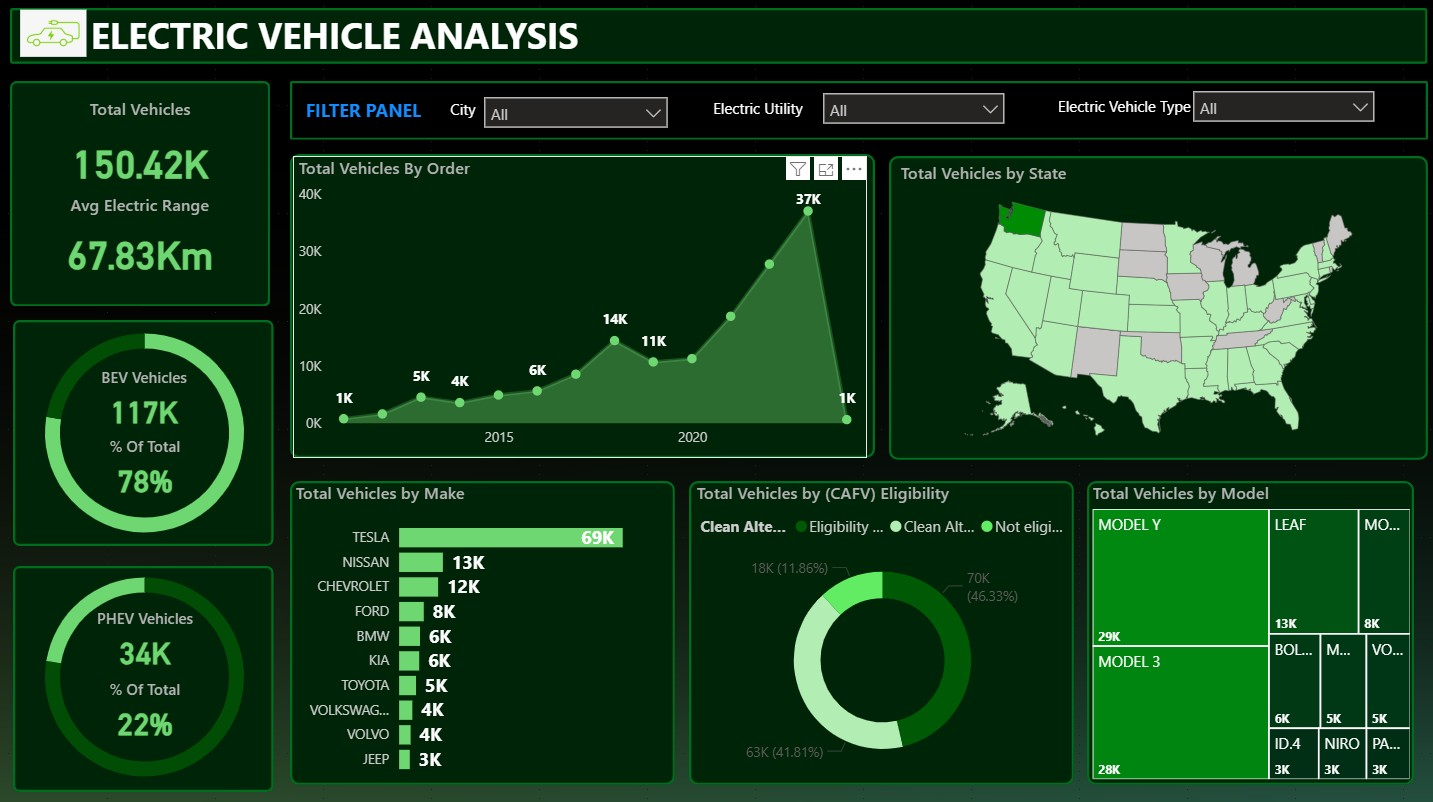

Layout of this report page (visuals, bound fields, positions):
{"tool":"powerbi","page":{"name":"Page 1","canvas":[1280,720],"ordinal":0},"visuals":[{"type":"shape","box":[9.8,9.8,1260,49.7],"z":0},{"type":"textbox","box":[76.4,6.2,467.6,56.9],"z":1000},{"type":"shape","box":[9.8,74.5,231.4,200.4],"z":2000},{"type":"card","title":"Total Vehicles","fields":{"Values":["Electric_Vehicle_Population_Data.Total Vehicles"]},"box":[9.9,89.1,231.6,95],"z":3000},{"type":"card","title":"Avg Electric Range","fields":{"Values":["Electric_Vehicle_Population_Data.Avg Range"]},"box":[12.9,174.2,225.6,86.1],"z":4000},{"type":"shape","box":[12.9,287,231.6,200.9],"z":5000},{"type":"shape","box":[12.9,505.7,231.6,200.9],"z":6000},{"type":"donutChart","fields":{"Category":["Electric_Vehicle_Population_Data.Electric Vehicle Type"],"Y":["Electric_Vehicle_Population_Data.Total Vehicles"]},"box":[0,488.9,258.7,231.1],"z":7000},{"type":"card","title":"BEV Vehicles","fields":{"Values":["Electric_Vehicle_Population_Data.BEV vehicles"]},"box":[49.8,328.9,158.2,61.3],"z":8000},{"type":"card","title":"% Of Total","fields":{"Values":["Electric_Vehicle_Population_Data.1% of BEV"]},"box":[50.7,390.2,158.2,61.3],"z":9000},{"type":"donutChart","fields":{"Category":["Electric_Vehicle_Population_Data.Electric Vehicle Type"],"Y":["Electric_Vehicle_Population_Data.Total Vehicles"]},"box":[0,272,258.7,231.1],"z":10000},{"type":"card","title":"PHEV Vehicles","fields":{"Values":["Electric_Vehicle_Population_Data.PHEV vehicles"]},"box":[50.7,543.1,158.2,61.3],"z":11000},{"type":"card","title":"% Of Total","fields":{"Values":["Electric_Vehicle_Population_Data.1% of PHEV"]},"box":[50.7,606.2,158.2,61.3],"z":12000},{"type":"shape","box":[258.7,74.7,1011.6,52.4],"z":13000},{"type":"shape","box":[258.7,139.6,520,270.2],"z":14000},{"type":"areaChart","title":"Total Vehicles By Order ","fields":{"Category":["Electric_Vehicle_Population_Data.Model Year"],"Y":["Electric_Vehicle_Population_Data.Total Vehicles"]},"box":[261.3,141.3,510.2,268.4],"z":15000},{"type":"shape","box":[791.1,141.3,479.1,270.2],"z":16000},{"type":"shapeMap","fields":{"Category":["Electric_Vehicle_Population_Data.State"],"Value":["Electric_Vehicle_Population_Data.Total Vehicles"]},"box":[796.4,145.8,468.4,260.4],"z":17000},{"type":"shape","box":[258.7,430.2,342.2,270.2],"z":18000},{"type":"barChart","fields":{"Category":["Electric_Vehicle_Population_Data.Make"],"Y":["Electric_Vehicle_Population_Data.Total Vehicles"]},"box":[258.7,430.2,336.9,270.2],"z":19000},{"type":"shape","box":[613.3,430.2,342.2,270.2],"z":20000},{"type":"donutChart","title":"Total Vehicles by (CAFV) Eligibility","fields":{"Category":["Electric_Vehicle_Population_Data.Clean Alternative Fuel Vehicle (CAFV) Eligibility"],"Y":["Electric_Vehicle_Population_Data.Total Vehicles"]},"box":[615.1,430.2,340.4,270.2],"z":21000},{"type":"shape","box":[967.1,430.2,290.7,270.2],"z":22000},{"type":"treemap","fields":{"Group":["Electric_Vehicle_Population_Data.Model"],"Values":["Electric_Vehicle_Population_Data.Total Vehicles"]},"box":[967.1,430.2,292.4,270.2],"z":23000},{"type":"textbox","box":[267.6,84.4,115.6,32.9],"z":24000},{"type":"textbox","box":[385.8,86.2,53.3,32.9],"z":25000},{"type":"slicer","fields":{"Values":["Electric_Vehicle_Population_Data.City"]},"box":[421.3,79.1,183.1,43.6],"z":26000},{"type":"textbox","box":[621.3,85.3,106.7,32.9],"z":27000},{"type":"slicer","fields":{"Values":["Electric_Vehicle_Population_Data.Electric Utility"]},"box":[722.7,75.6,181.3,45.3],"z":28000},{"type":"slicer","fields":{"Values":["Electric_Vehicle_Population_Data.Electric Vehicle Type"]},"box":[1051.6,73.8,181.3,45.3],"z":29000},{"type":"textbox","box":[928,83.6,144.9,32.9],"z":30000},{"type":"image","box":[9.8,6.2,76.4,52.4],"z":31000}]}

Visuals, with their boxes in screenshot pixels (x1, y1, x2, y2), scaled from the page's 1280x720 canvas onto the 1433x802 screenshot:
shape: bbox=[11, 11, 1422, 66]
textbox: bbox=[86, 7, 609, 70]
shape: bbox=[11, 83, 270, 306]
"Total Vehicles" card: bbox=[11, 99, 270, 205]
"Avg Electric Range" card: bbox=[14, 194, 267, 290]
shape: bbox=[14, 320, 274, 543]
shape: bbox=[14, 563, 274, 787]
donutChart - Electric_Vehicle_Population_Data.Electric Vehicle Type x Electric_Vehicle_Population_Data.Total Vehicles: bbox=[0, 545, 290, 801]
"BEV Vehicles" card: bbox=[56, 366, 233, 435]
"% Of Total" card: bbox=[57, 435, 234, 503]
donutChart - Electric_Vehicle_Population_Data.Electric Vehicle Type x Electric_Vehicle_Population_Data.Total Vehicles: bbox=[0, 303, 290, 560]
"PHEV Vehicles" card: bbox=[57, 605, 234, 673]
"% Of Total" card: bbox=[57, 675, 234, 744]
shape: bbox=[290, 83, 1422, 142]
shape: bbox=[290, 155, 872, 456]
"Total Vehicles By Order " areaChart: bbox=[293, 157, 864, 456]
shape: bbox=[886, 157, 1422, 458]
shapeMap - Electric_Vehicle_Population_Data.State x Electric_Vehicle_Population_Data.Total Vehicles: bbox=[892, 162, 1416, 452]
shape: bbox=[290, 479, 673, 780]
barChart - Electric_Vehicle_Population_Data.Make x Electric_Vehicle_Population_Data.Total Vehicles: bbox=[290, 479, 667, 780]
shape: bbox=[687, 479, 1070, 780]
"Total Vehicles by (CAFV) Eligibility" donutChart: bbox=[689, 479, 1070, 780]
shape: bbox=[1083, 479, 1408, 780]
treemap - Electric_Vehicle_Population_Data.Model x Electric_Vehicle_Population_Data.Total Vehicles: bbox=[1083, 479, 1410, 780]
textbox: bbox=[300, 94, 429, 131]
textbox: bbox=[432, 96, 492, 133]
slicer - Electric_Vehicle_Population_Data.City: bbox=[472, 88, 677, 137]
textbox: bbox=[696, 95, 815, 132]
slicer - Electric_Vehicle_Population_Data.Electric Utility: bbox=[809, 84, 1012, 135]
slicer - Electric_Vehicle_Population_Data.Electric Vehicle Type: bbox=[1177, 82, 1380, 133]
textbox: bbox=[1039, 93, 1201, 130]
image: bbox=[11, 7, 97, 65]
